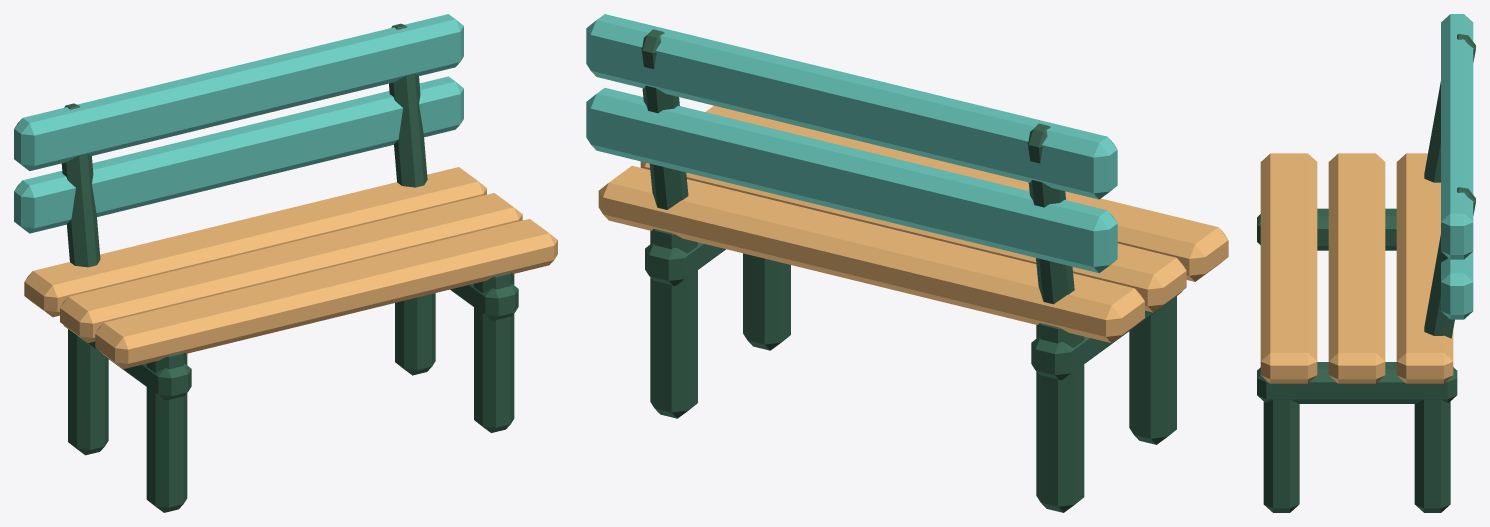
The model's file is bench.fbx.
3 renders of one model, left to right at view 1: azimuth 30°, elevation 25°; view 2: azimuth 150°, elevation 25°; view 3: azimuth 270°, elevation 25°, orthographic. The views are drawn at different scales.
Parts seen in each view (by area): view 1: Painted back slat.001, Seat slat, Painted back slat, Seat slat.001, Seat slat.002, Cast iron foot, Cast iron foot.002, Cast iron foot.001, Back support.001, Back support, Cast iron foot.003, Seat support (+1 smaller); view 2: Painted back slat, Painted back slat.001, Seat slat.002, Seat slat, Cast iron foot.001, Cast iron foot.003, Seat slat.001, Cast iron foot, Cast iron foot.002, Back support.001, Back support, Seat support (+1 smaller); view 3: Seat slat, Seat slat.001, Seat slat.002, Painted back slat.001, Seat support.001, Cast iron foot.002, Cast iron foot.003, Painted back slat, Back support.001, Seat support, Back support.
Part boxes in pixels (left/top/right/bottom): Painted back slat.001: left=14, top=14, right=463, bottom=170; Seat slat: left=95, top=219, right=557, bottom=368; Painted back slat: left=14, top=76, right=463, bottom=233; Seat slat.001: left=60, top=193, right=522, bottom=343; Seat slat.002: left=24, top=167, right=486, bottom=317; Cast iron foot: left=146, top=352, right=187, bottom=512; Cast iron foot.002: left=474, top=272, right=514, bottom=432; Cast iron foot.001: left=68, top=329, right=108, bottom=455; Back support.001: left=389, top=23, right=427, bottom=187; Back support: left=61, top=103, right=100, bottom=267; Cast iron foot.003: left=395, top=293, right=435, bottom=375; Seat support: left=64, top=325, right=191, bottom=400; Painted back slat: left=586, top=88, right=1117, bottom=273; Painted back slat.001: left=586, top=14, right=1117, bottom=199; Seat slat.002: left=598, top=165, right=1144, bottom=342; Seat slat: left=705, top=105, right=1228, bottom=281; Cast iron foot.001: left=1036, top=323, right=1084, bottom=512; Cast iron foot.003: left=650, top=229, right=697, bottom=418; Seat slat.001: left=640, top=161, right=1186, bottom=312; Cast iron foot: left=1129, top=296, right=1176, bottom=444; Cast iron foot.002: left=743, top=253, right=790, bottom=350; Back support.001: left=641, top=29, right=688, bottom=209; Back support: left=1027, top=123, right=1074, bottom=304; Seat support: left=1031, top=291, right=1182, bottom=380; Seat slat: left=1260, top=153, right=1317, bottom=383; Seat slat.001: left=1328, top=153, right=1385, bottom=383; Seat slat.002: left=1396, top=153, right=1453, bottom=383; Painted back slat.001: left=1441, top=14, right=1473, bottom=259; Seat support.001: left=1257, top=362, right=1457, bottom=403; Cast iron foot.002: left=1263, top=399, right=1299, bottom=512; Cast iron foot.003: left=1414, top=399, right=1450, bottom=512; Painted back slat: left=1441, top=251, right=1473, bottom=319; Back support.001: left=1424, top=187, right=1475, bottom=338; Seat support: left=1257, top=208, right=1396, bottom=250; Back support: left=1424, top=34, right=1475, bottom=182.
Bounding box in the file's own units: 130 × 93.61 × 57.96.
